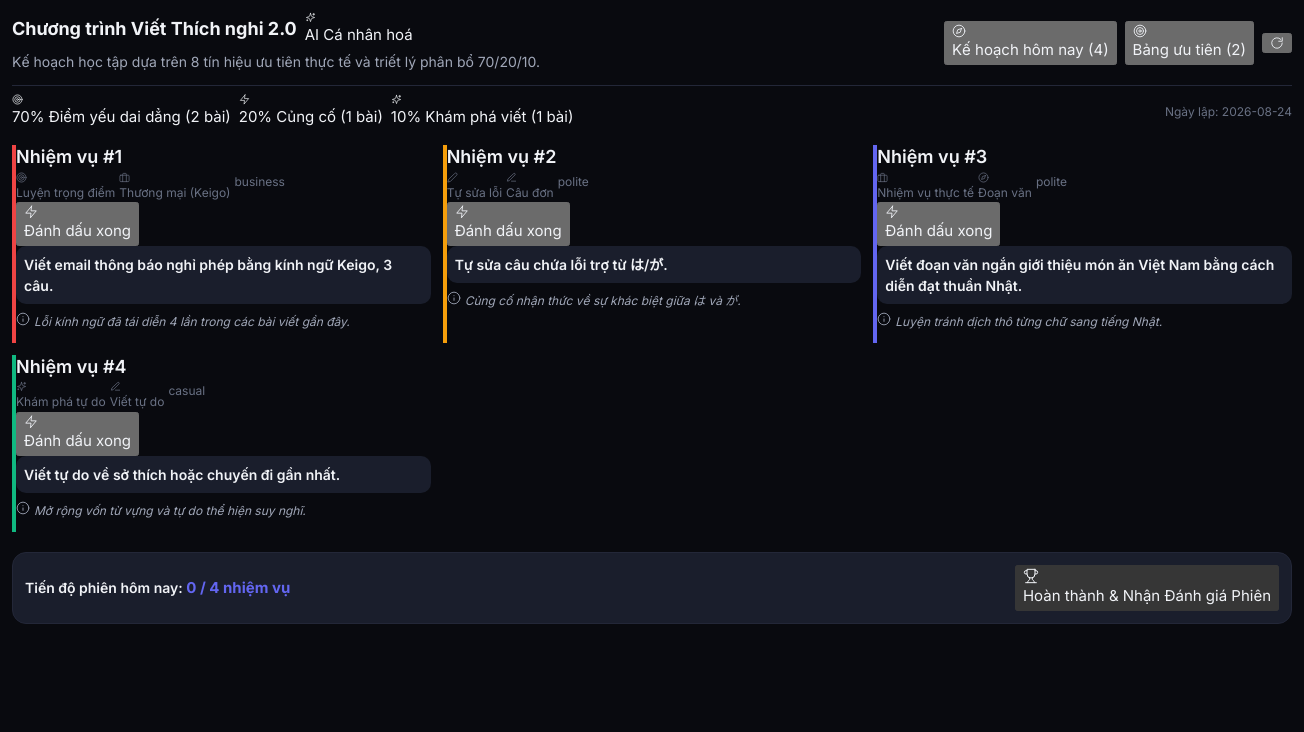
Test: AdaptiveCurriculumPanel › toggles task completion and finishes session with debrief
The width and height of the screenshot is (1304, 732).
Expected: the text "Nhiệm vụ #1" is shown, [16,146,122,167]
// Mark task 1 as done
Click the button "Đánh dấu xong" below "Luyện trọng điểm".
click(78, 224)  # box [16,202,139,246]
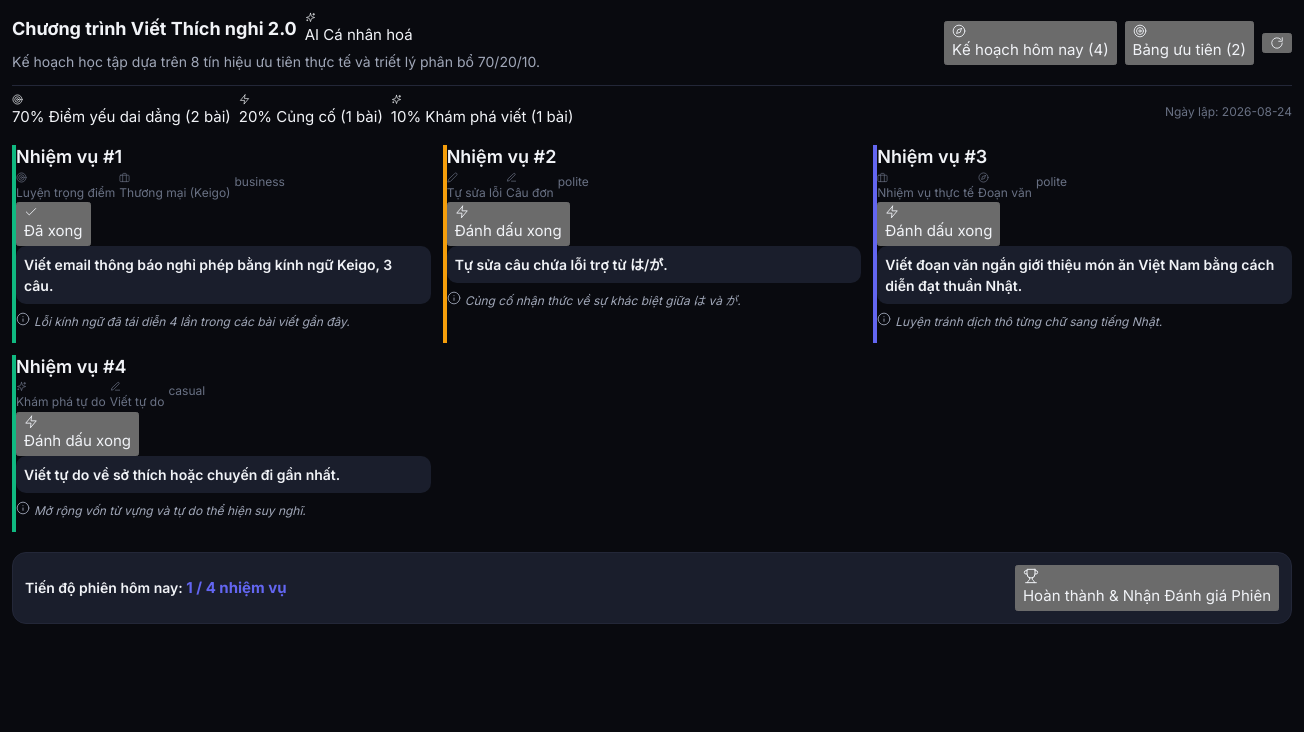
Result: the text "1 / 4 nhiệm vụ" is shown at [186,578,287,597]
Result: the button "Hoàn thành & Nhận Đánh giá Phiên" is enabled
Click the button "Hoàn thành & Nhận Đánh giá Phiên".
click(1147, 588)  # box [1015,565,1279,611]
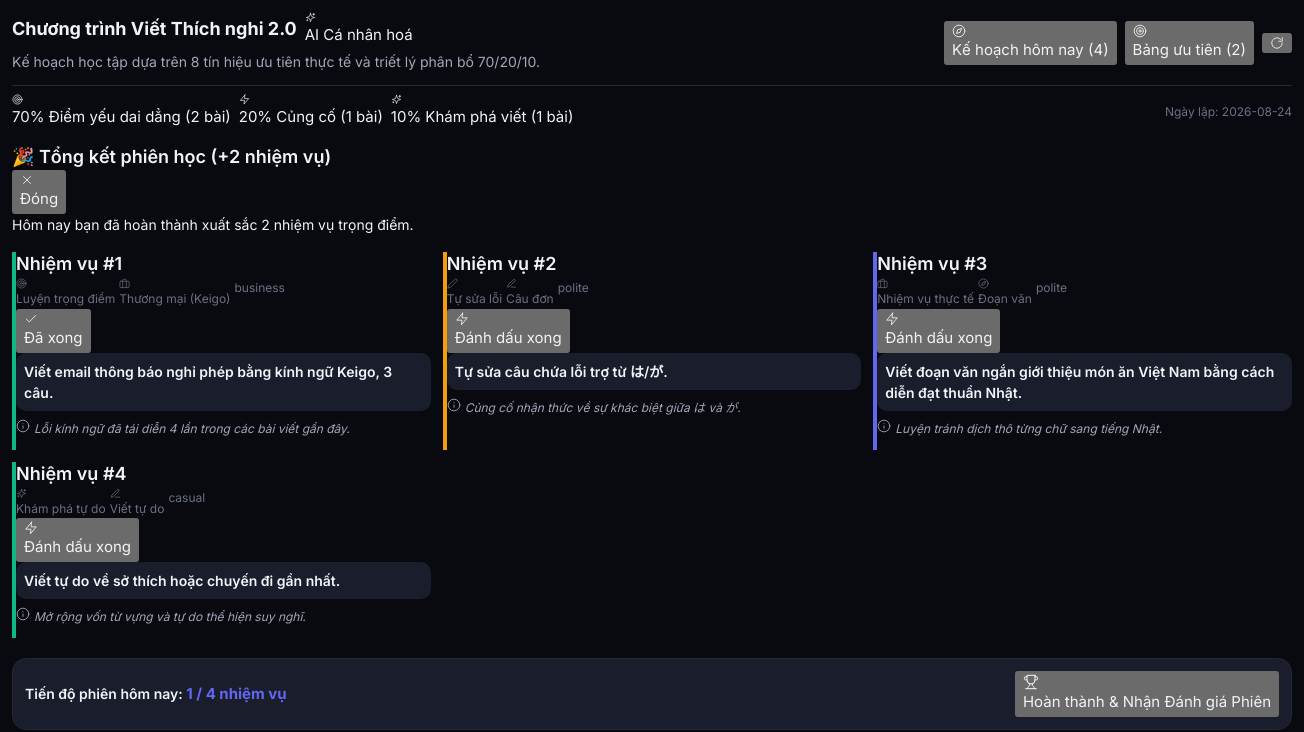
Result: the text "Hôm nay bạn đã hoàn thành xuất sắc 2 nhiệm vụ trọng điểm." is shown at [12,216,414,233]
